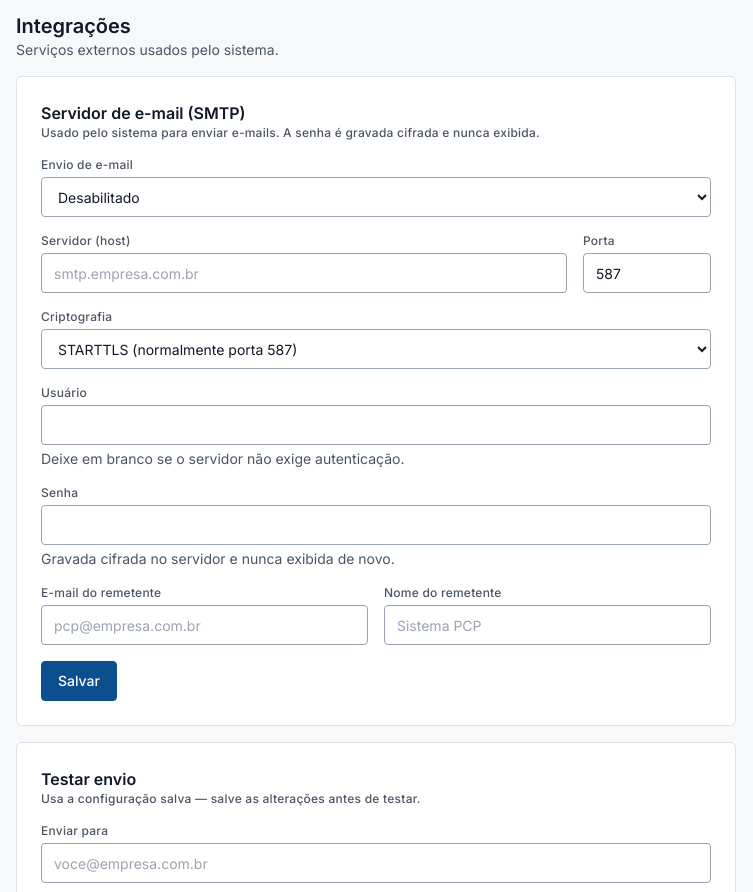
Test: Integracoes › habilitar sem host nao envia e explica
This screenshot has width=753, height=892.
Select "Habilitado — o sistema pode enviar e-mails" in the dropdown labelled "Envio de e-mail" at (376, 197), box [41,177,711,217]
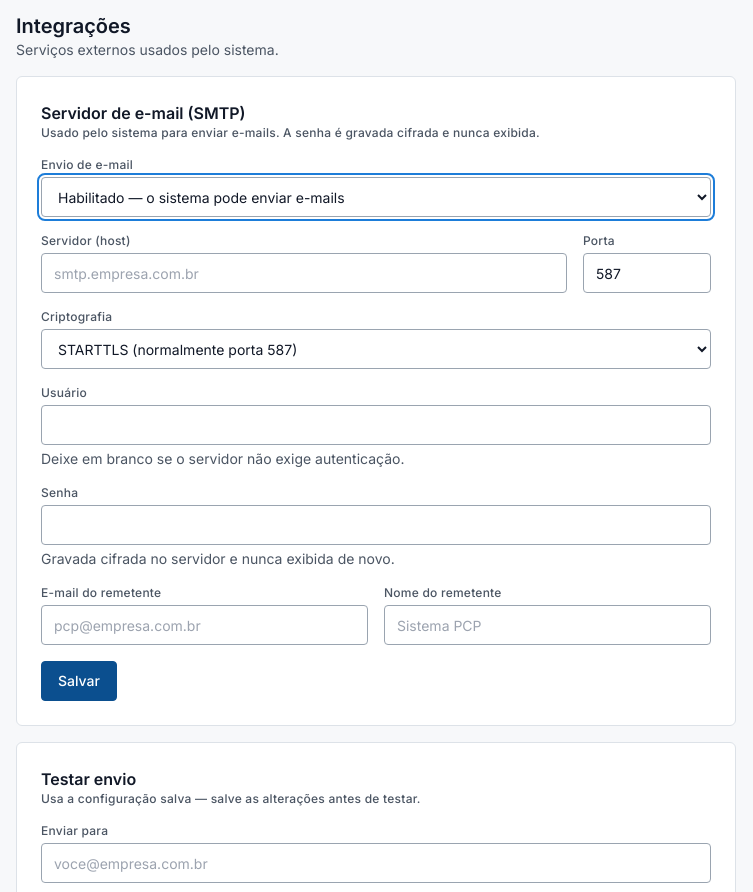
Click the button "Salvar".
click(79, 681)  # box [41,661,117,701]
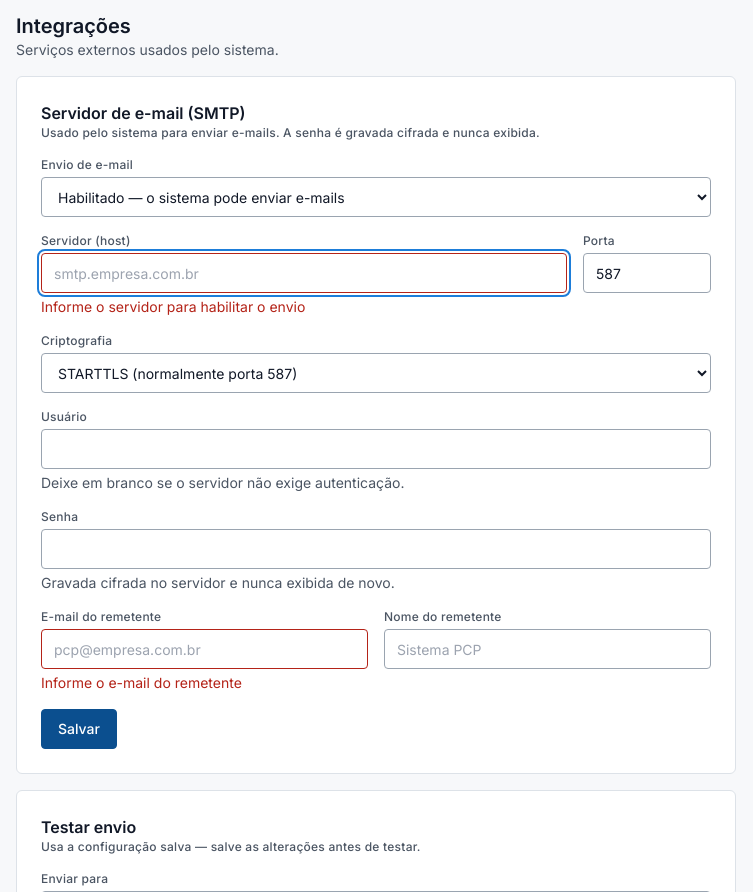
Check: the text "Informe o servidor para habilitar o envio" is shown, box [41,298,305,315]
